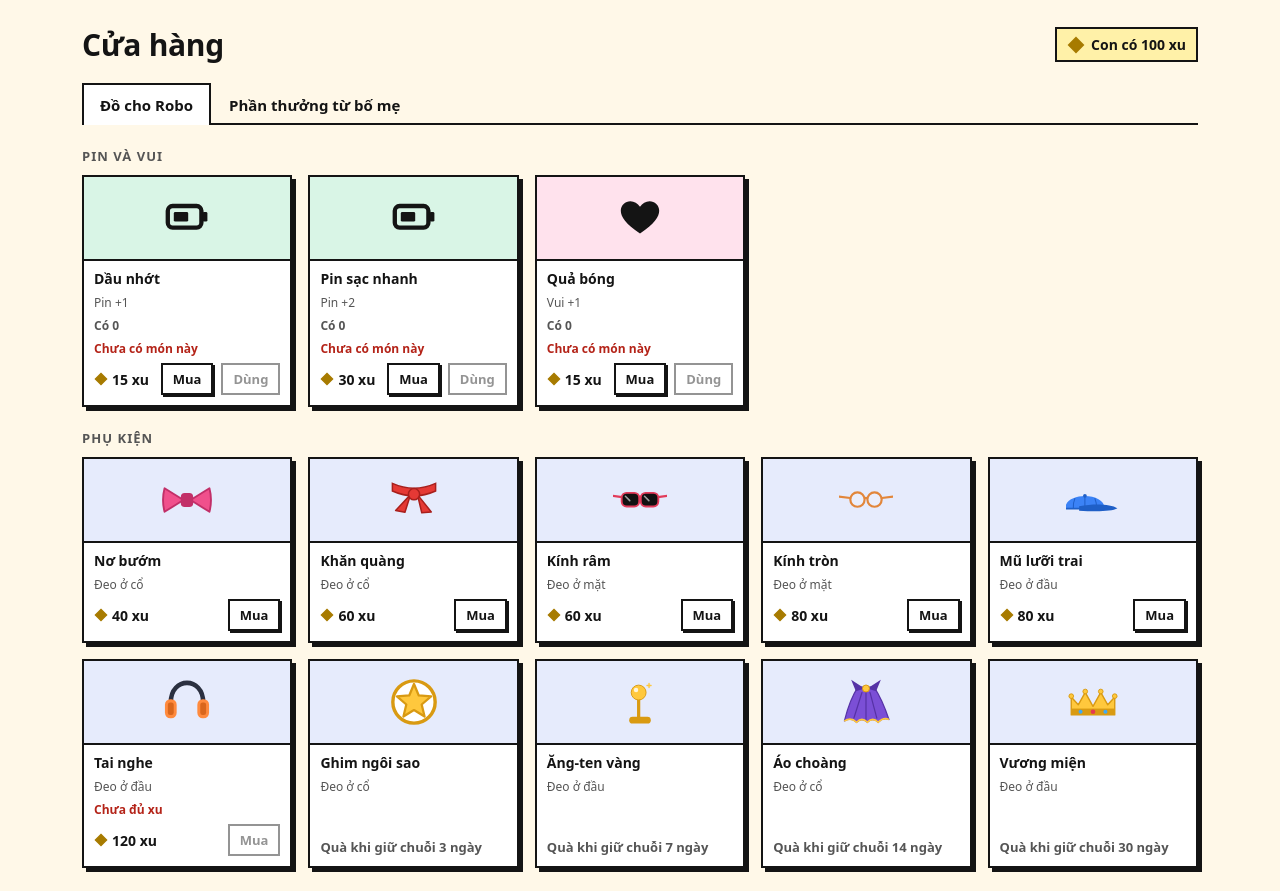
ShopScreen: things for the robot › a worn accessory has the class wearing and says so in words
This screenshot has width=1280, height=891.
Step 1. Click the button with aria-label "Mua Kính râm" → (707, 615), box [680, 599, 733, 631]
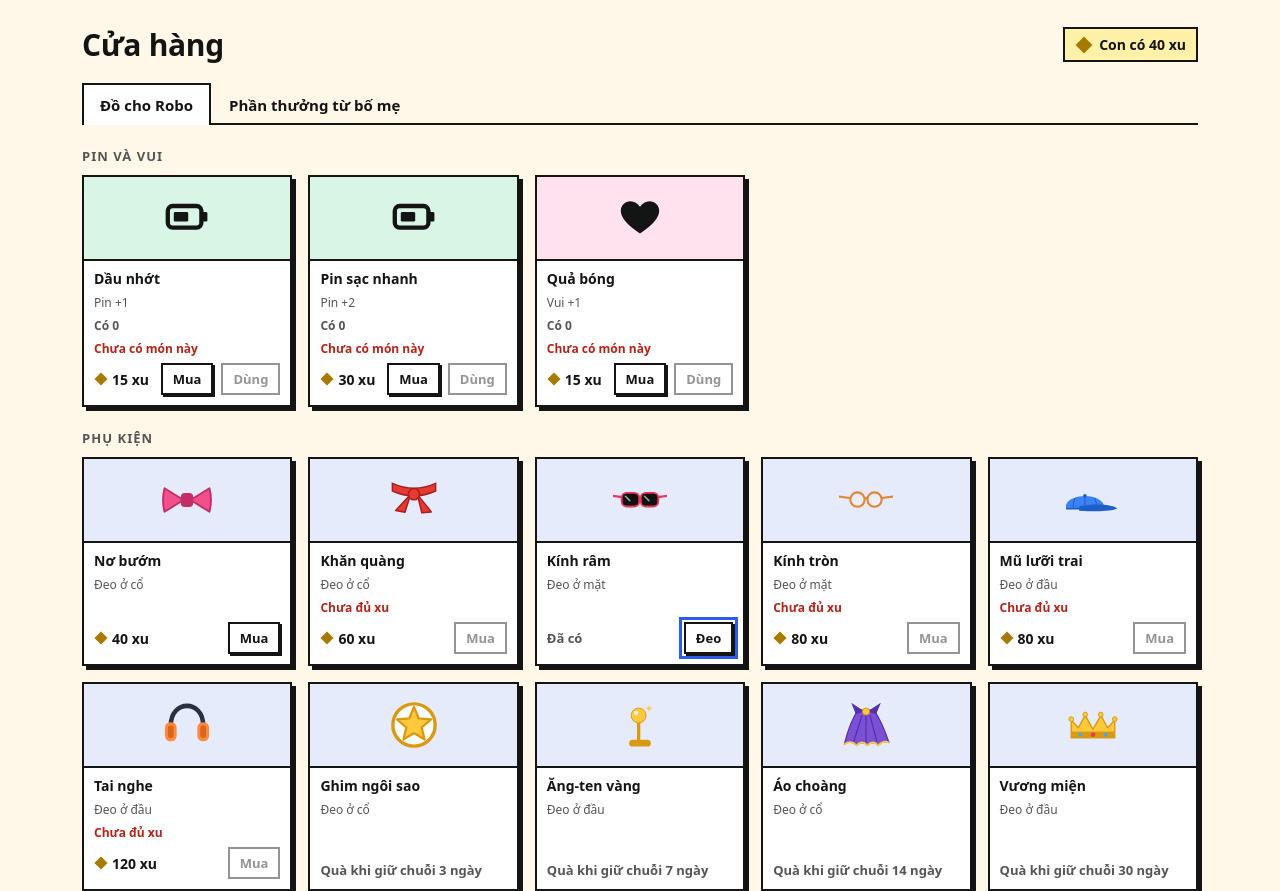
Step 2. Click the button with aria-label "Đeo Kính râm" → (708, 638), box [684, 622, 733, 654]
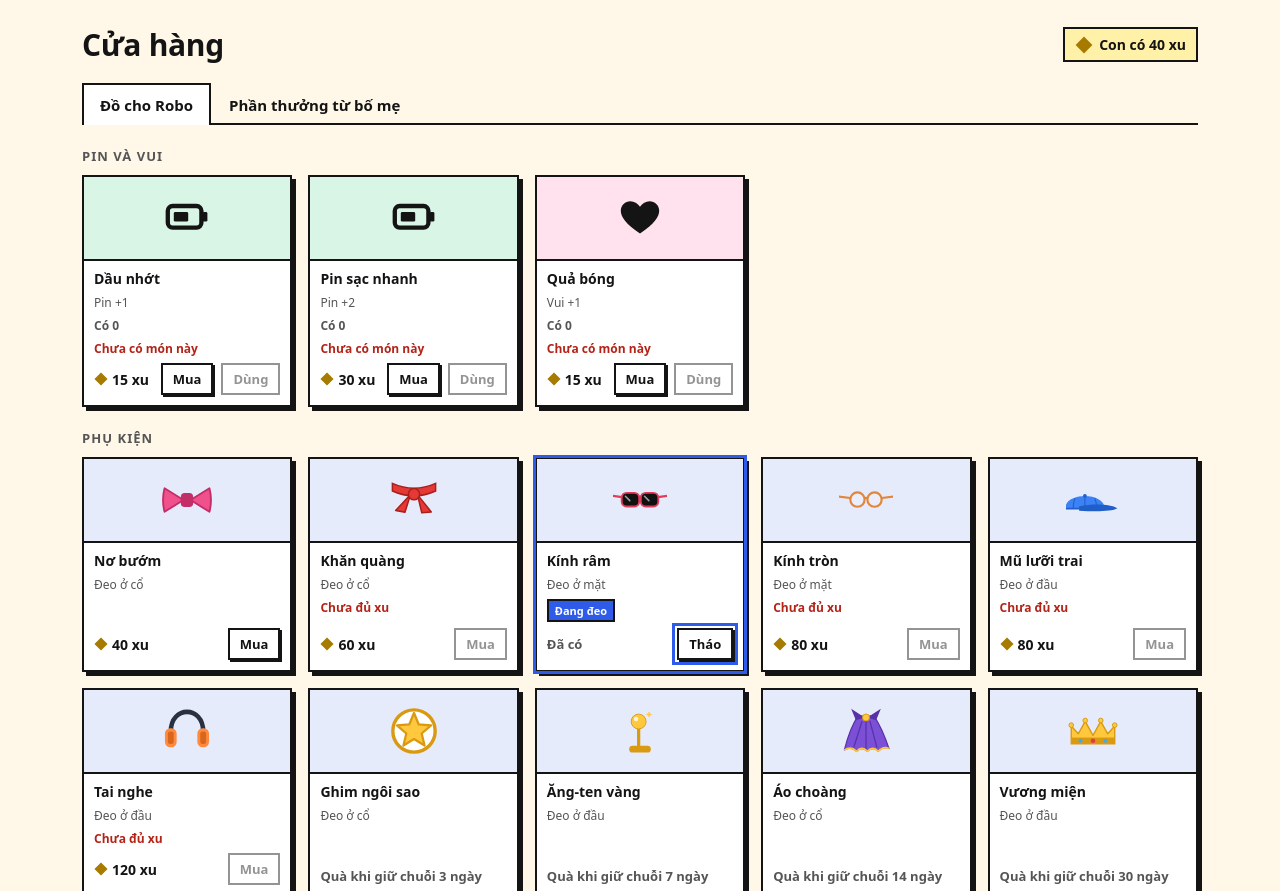
Check: the text "Đang đeo" is shown, box [547, 599, 615, 622]
Step 3. Click the button with aria-label "Tháo Kính râm" → (705, 644), box [677, 628, 733, 660]
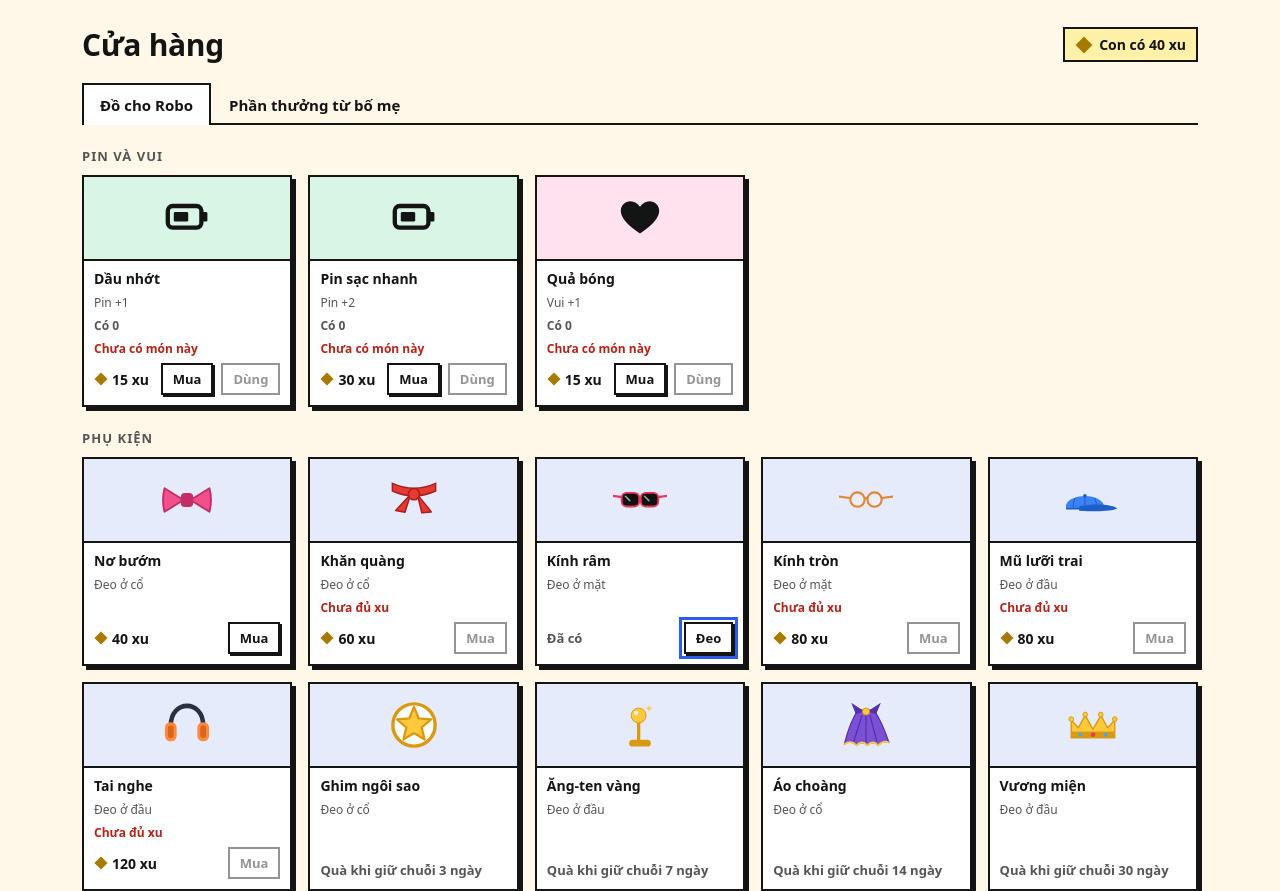
Check: the text "Đang đeo" is gone
